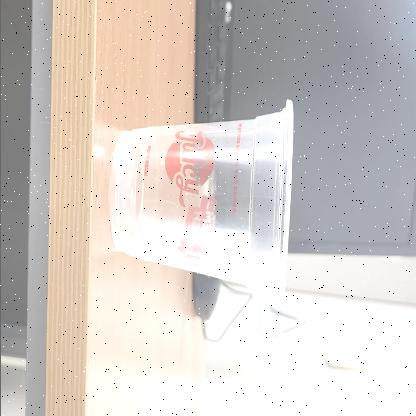Others: (108, 97, 296, 311)
